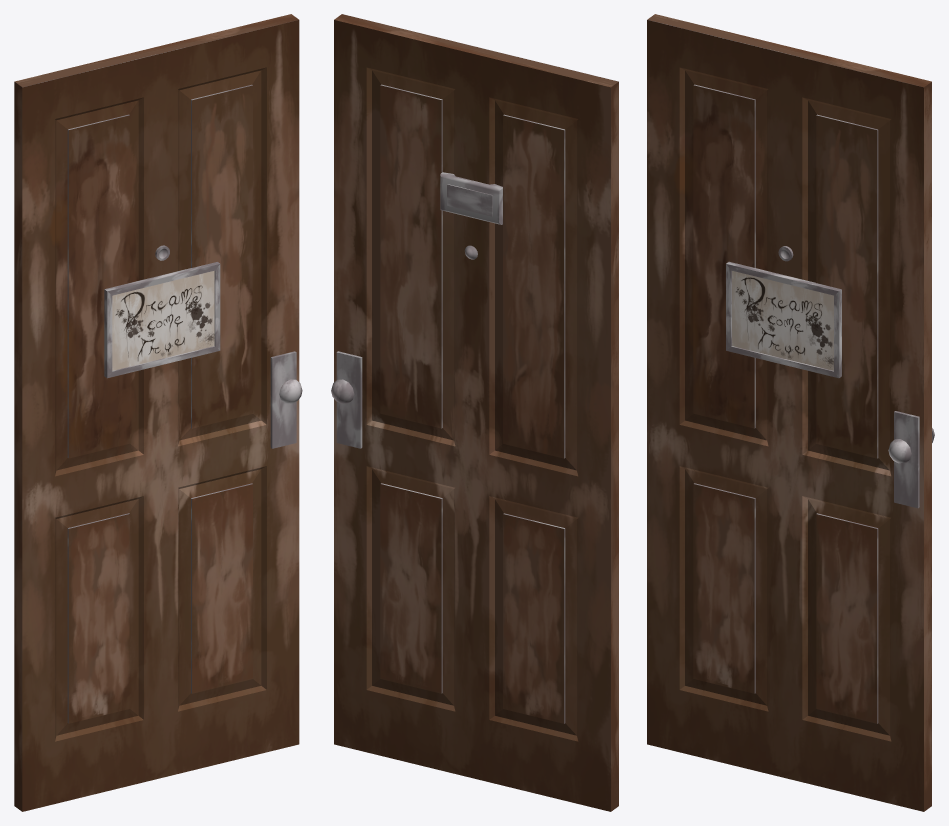
Rendered from ActualDoor_texture.fbx.
The picture shows the model from 3 angles, left to right: view 1: azimuth 30°, elevation 25°; view 2: azimuth 150°, elevation 25°; view 3: azimuth 330°, elevation 25°; orthographic projection.
Visible parts, largest first — view 1: Plane001; view 2: Plane001; view 3: Plane001.
Boxes of the visible parts, box(x1,y1,x2,y2) form: Plane001: box(14, 14, 302, 811); Plane001: box(331, 14, 618, 811); Plane001: box(647, 14, 934, 811).
Size of the model in its own units: 80 by 200 by 15.98.
